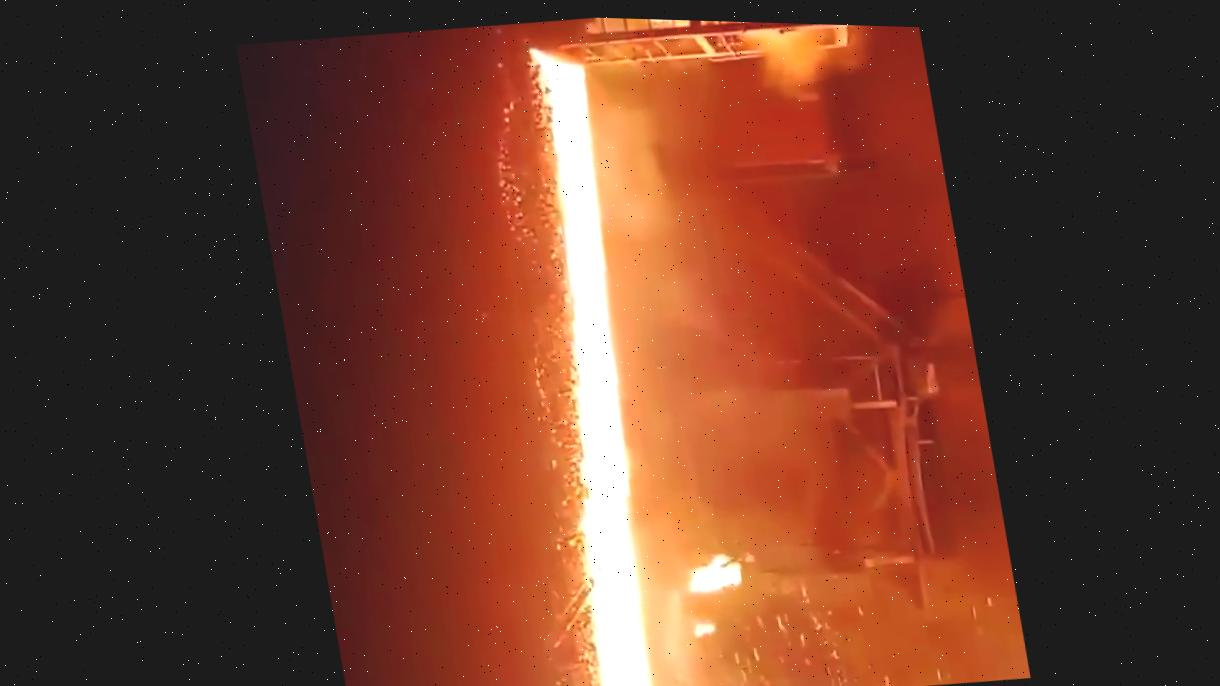fire: (362, 21, 960, 686)
